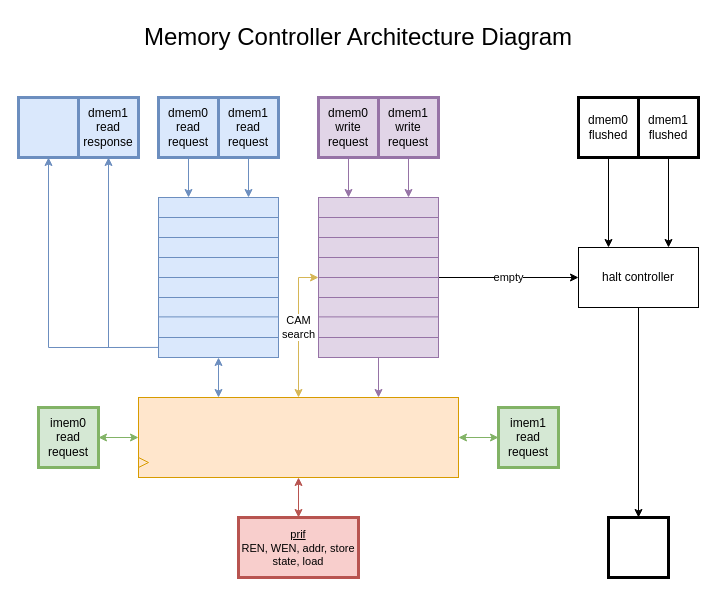
Image size: 717x596. Some labels were removed from this diagram. Each missing label, with the centre of its shape:
"dmem0 read response" belongs at point 48,127.
"memory access arbiter" belongs at point 298,437.
"read buffer" belongs at point 218,277.
"system halt" belongs at point 638,547.
"write buffer" belongs at point 378,277.
